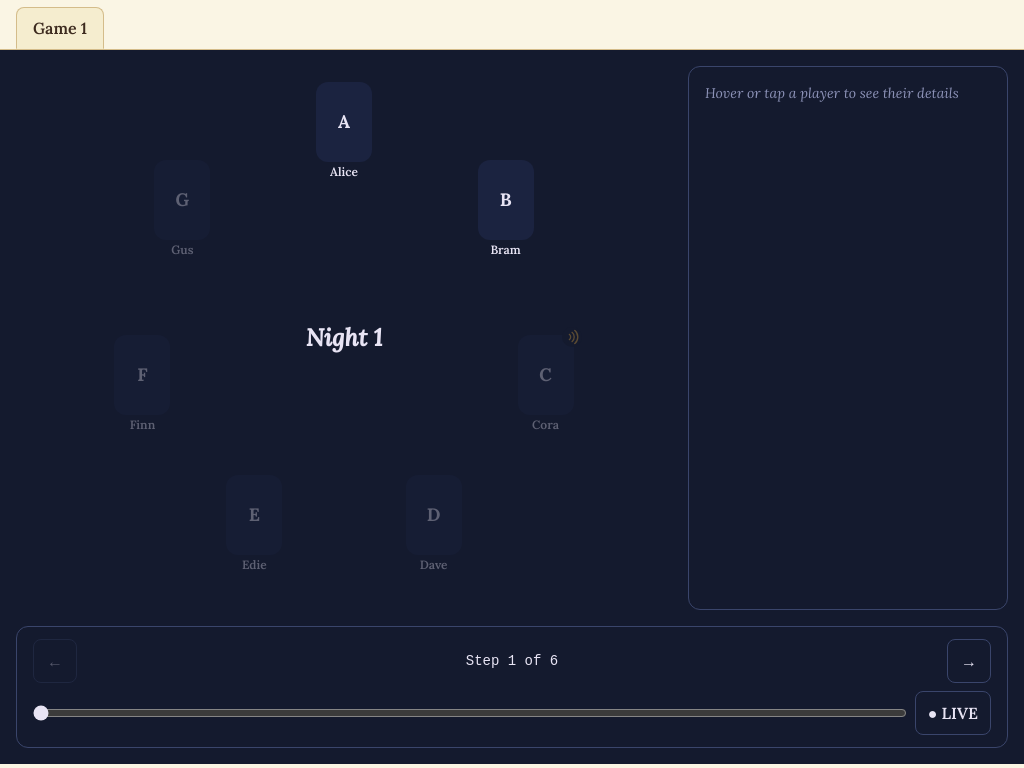
Test case: beats › speech shows a bubble on the speaker
Click the button named "Next" at (969, 661), box [947,639,991,683]
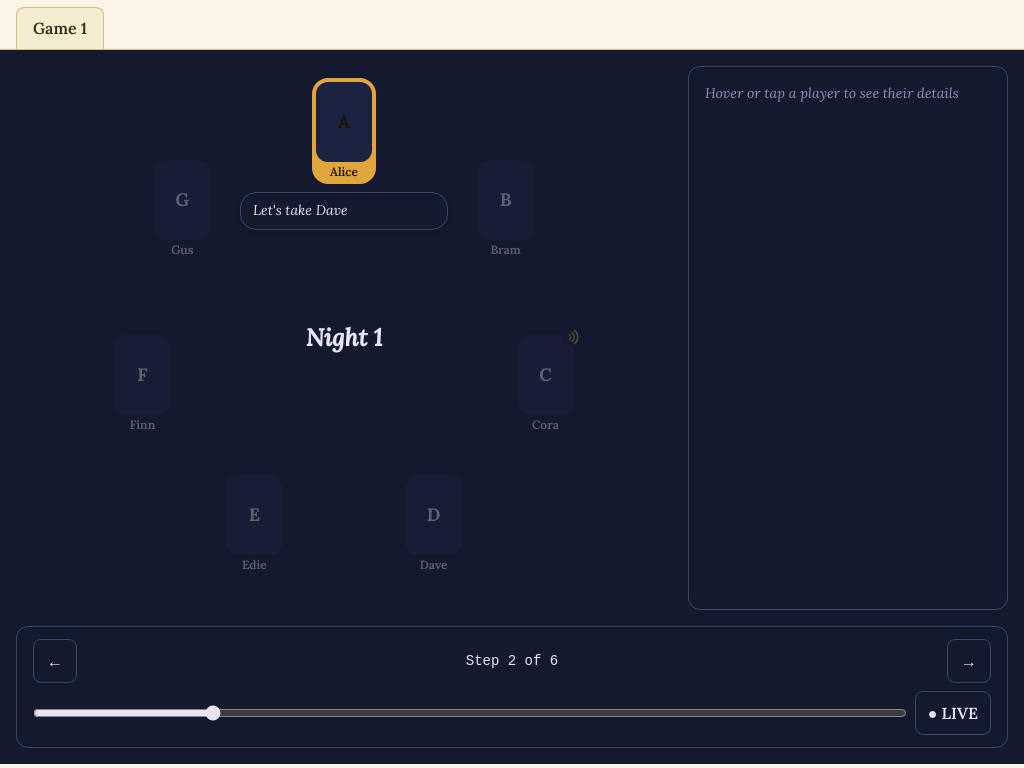
Click the button named "Next" at (969, 661), box [947,639,991,683]
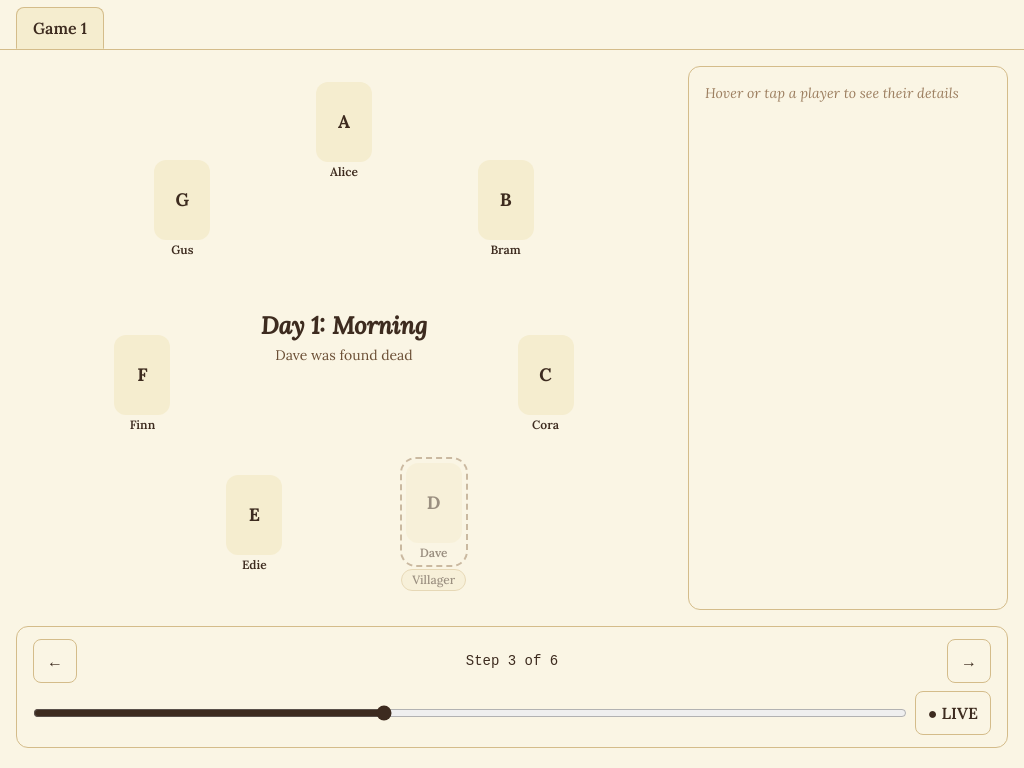
Click the button named "Next" at (969, 661), box [947,639,991,683]
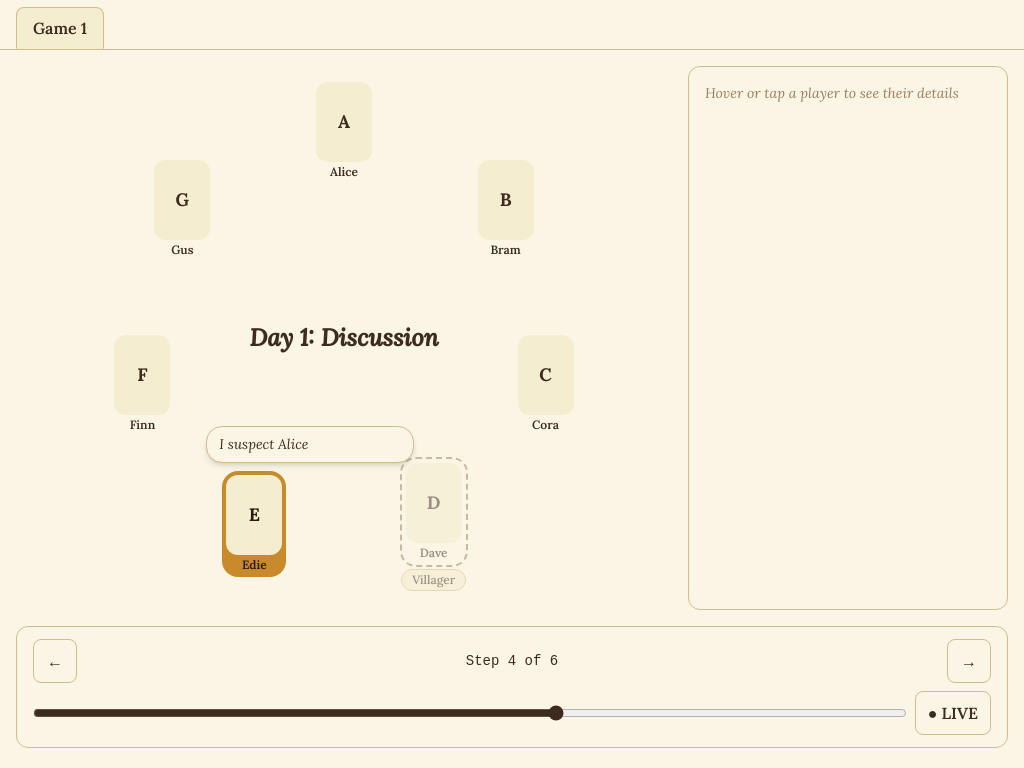
Check: the text "I suspect Alice" is shown, box [219,435,308,453]
